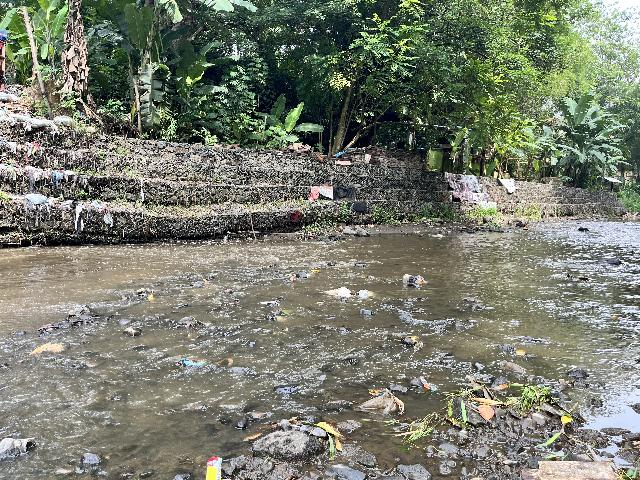Sampah Anorganik: (359, 384, 407, 416), (398, 269, 432, 290), (411, 372, 440, 396), (176, 352, 208, 371), (206, 452, 223, 480), (323, 287, 351, 298), (355, 288, 376, 301), (257, 301, 283, 307), (308, 268, 322, 275), (222, 289, 234, 294)
Sampah Organik: (453, 365, 552, 422), (236, 418, 350, 457), (517, 456, 621, 480), (409, 414, 441, 438), (25, 341, 68, 356), (404, 334, 421, 347), (216, 357, 235, 368), (559, 413, 575, 425), (34, 323, 54, 332), (185, 320, 204, 329), (270, 315, 288, 323), (278, 309, 294, 316), (201, 278, 212, 285), (148, 292, 155, 302), (515, 349, 526, 355), (609, 315, 620, 320), (290, 276, 294, 282)
